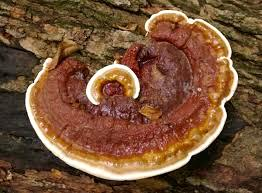Ganoderma - Fruit Body: (24, 9, 238, 182)
